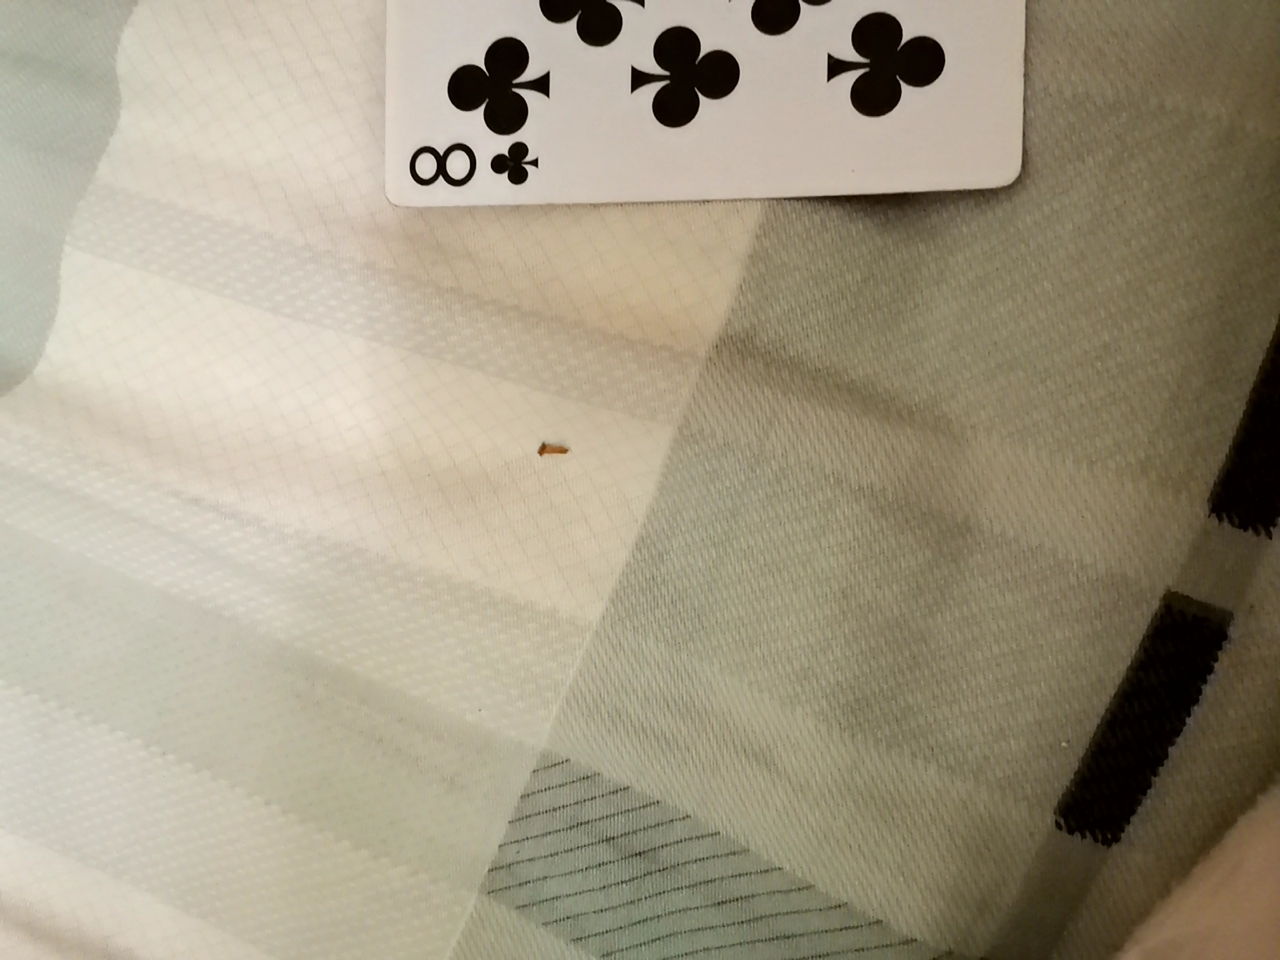mh 8: (329, 0, 1023, 209)
